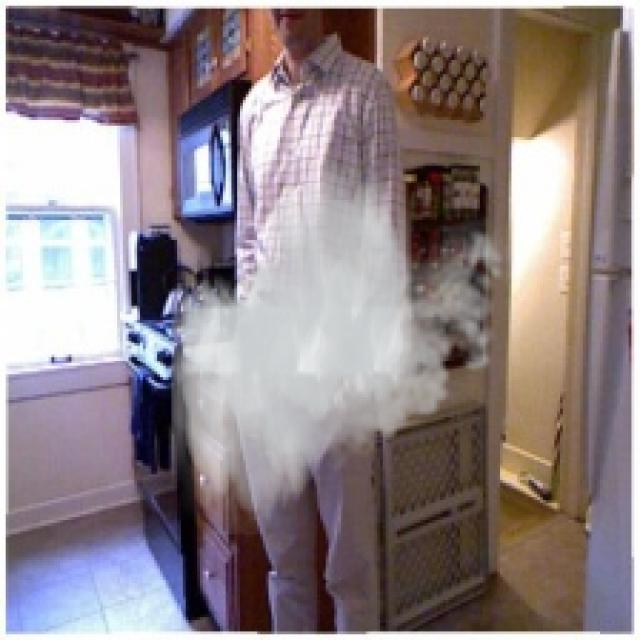Smoke: (172, 146, 514, 534)
